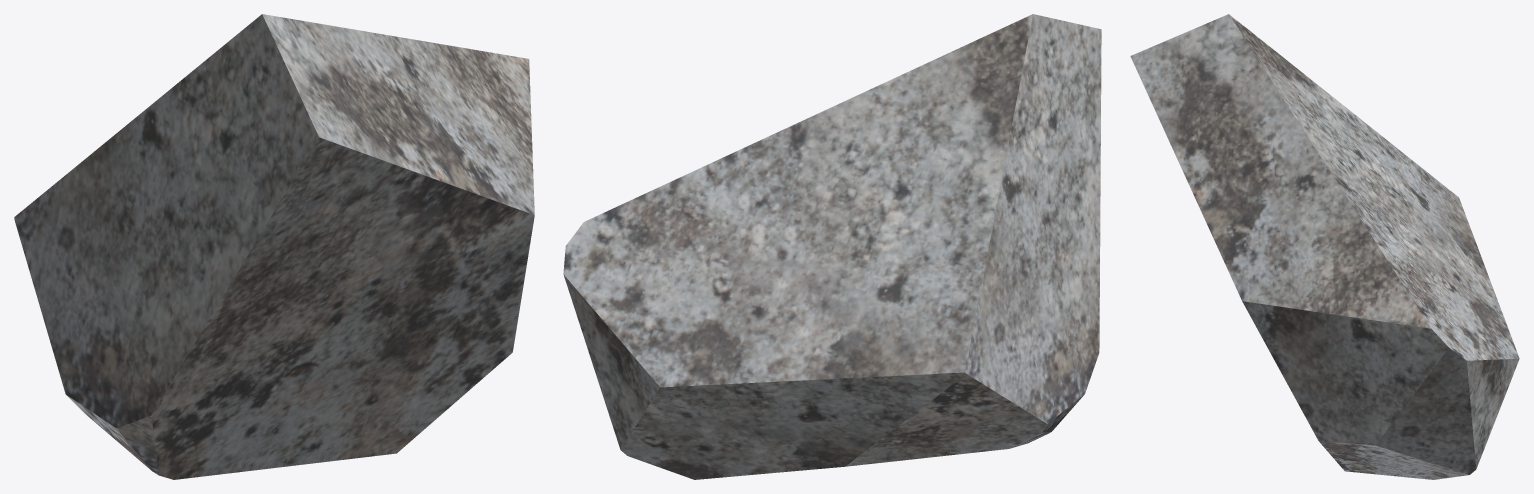
File: Asteroid_Large_001_02_009_03_046.fbx
3 renders of one model, left to right at view 1: azimuth 30°, elevation 25°; view 2: azimuth 150°, elevation 25°; view 3: azimuth 270°, elevation 25°, orthographic. The views are drawn at different scales.
Parts seen in each view (by area): view 1: Asteroid_Large_001_02_009_03_046; view 2: Asteroid_Large_001_02_009_03_046; view 3: Asteroid_Large_001_02_009_03_046.
Part boxes in pixels (<box>): Asteroid_Large_001_02_009_03_046: <box>14,14,534,479</box>; Asteroid_Large_001_02_009_03_046: <box>563,14,1101,479</box>; Asteroid_Large_001_02_009_03_046: <box>1130,14,1519,479</box>.
Bounding box in the file's own units: 10.58 × 10.56 × 9.72.
